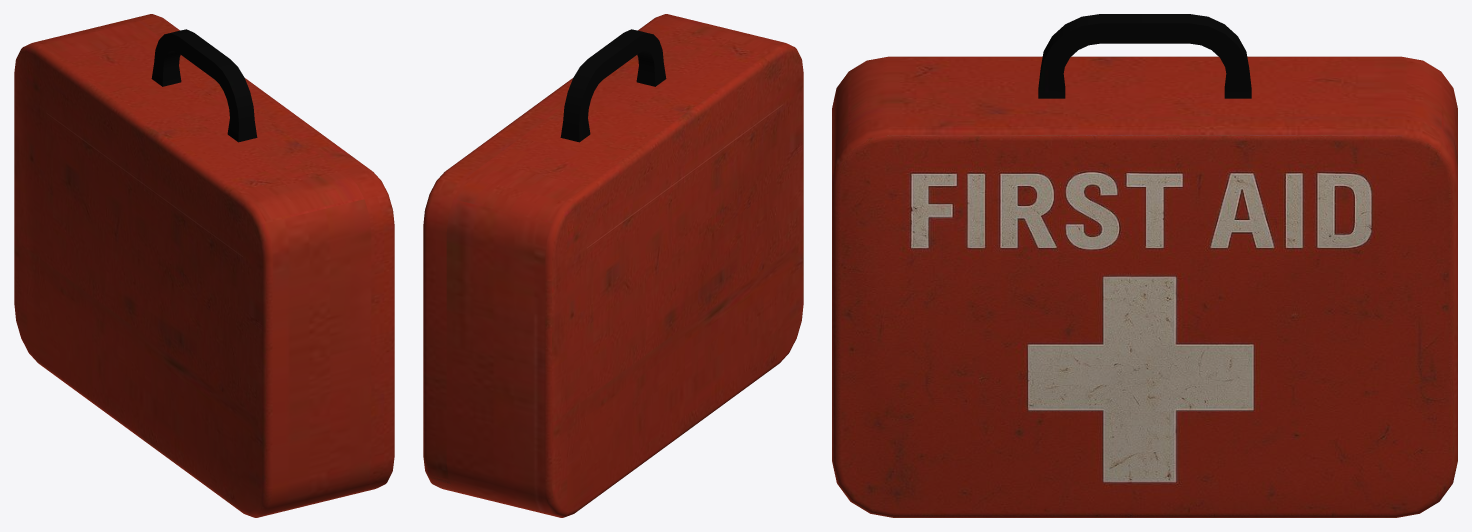
Rendered from first_aid_kit.obj.
3 views of the same model, side by side, from view 1: azimuth 30°, elevation 25°; view 2: azimuth 150°, elevation 25°; view 3: azimuth 270°, elevation 25° (orthographic). The views are drawn at different scales.
Parts seen in each view (by area): view 1: first_aid_kit, cap; view 2: first_aid_kit, cap; view 3: cap, first_aid_kit.
Part boxes in pixels (x1,y1,x2,y2): first_aid_kit: (14,19,371,517); cap: (131,14,394,493); first_aid_kit: (446,19,803,517); cap: (423,14,686,493); cap: (832,116,1457,517); first_aid_kit: (832,14,1457,166).
Size of the model in its own units: 0.08 by 0.2195 by 0.2688.
Materials: 1 (1 with a texture image).
